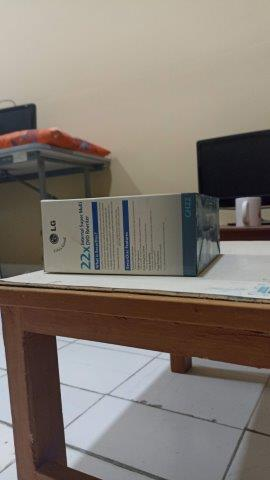kardus: (42, 194, 219, 276)
